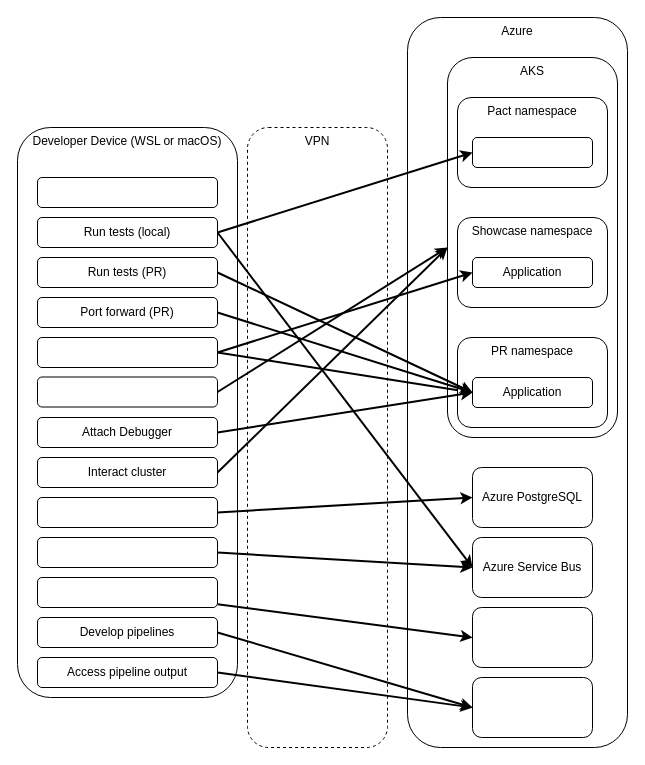
Some shapes in this 645 by 765 pixel diagram are drawn without their labels. The shapes that lost their labels are listed below. From the top down, each one's centre as x and y in pixels, then its label:
[532,152]: Pact Broker
[127,192]: Write code
[127,352]: Demo PR/Showcase
[127,391]: Configure namespaces (Platform team)
[127,512]: Interact database
[127,552]: Interact messaging
[127,592]: Interact cache
[532,637]: Azure Redis
[532,707]: Jenkins
